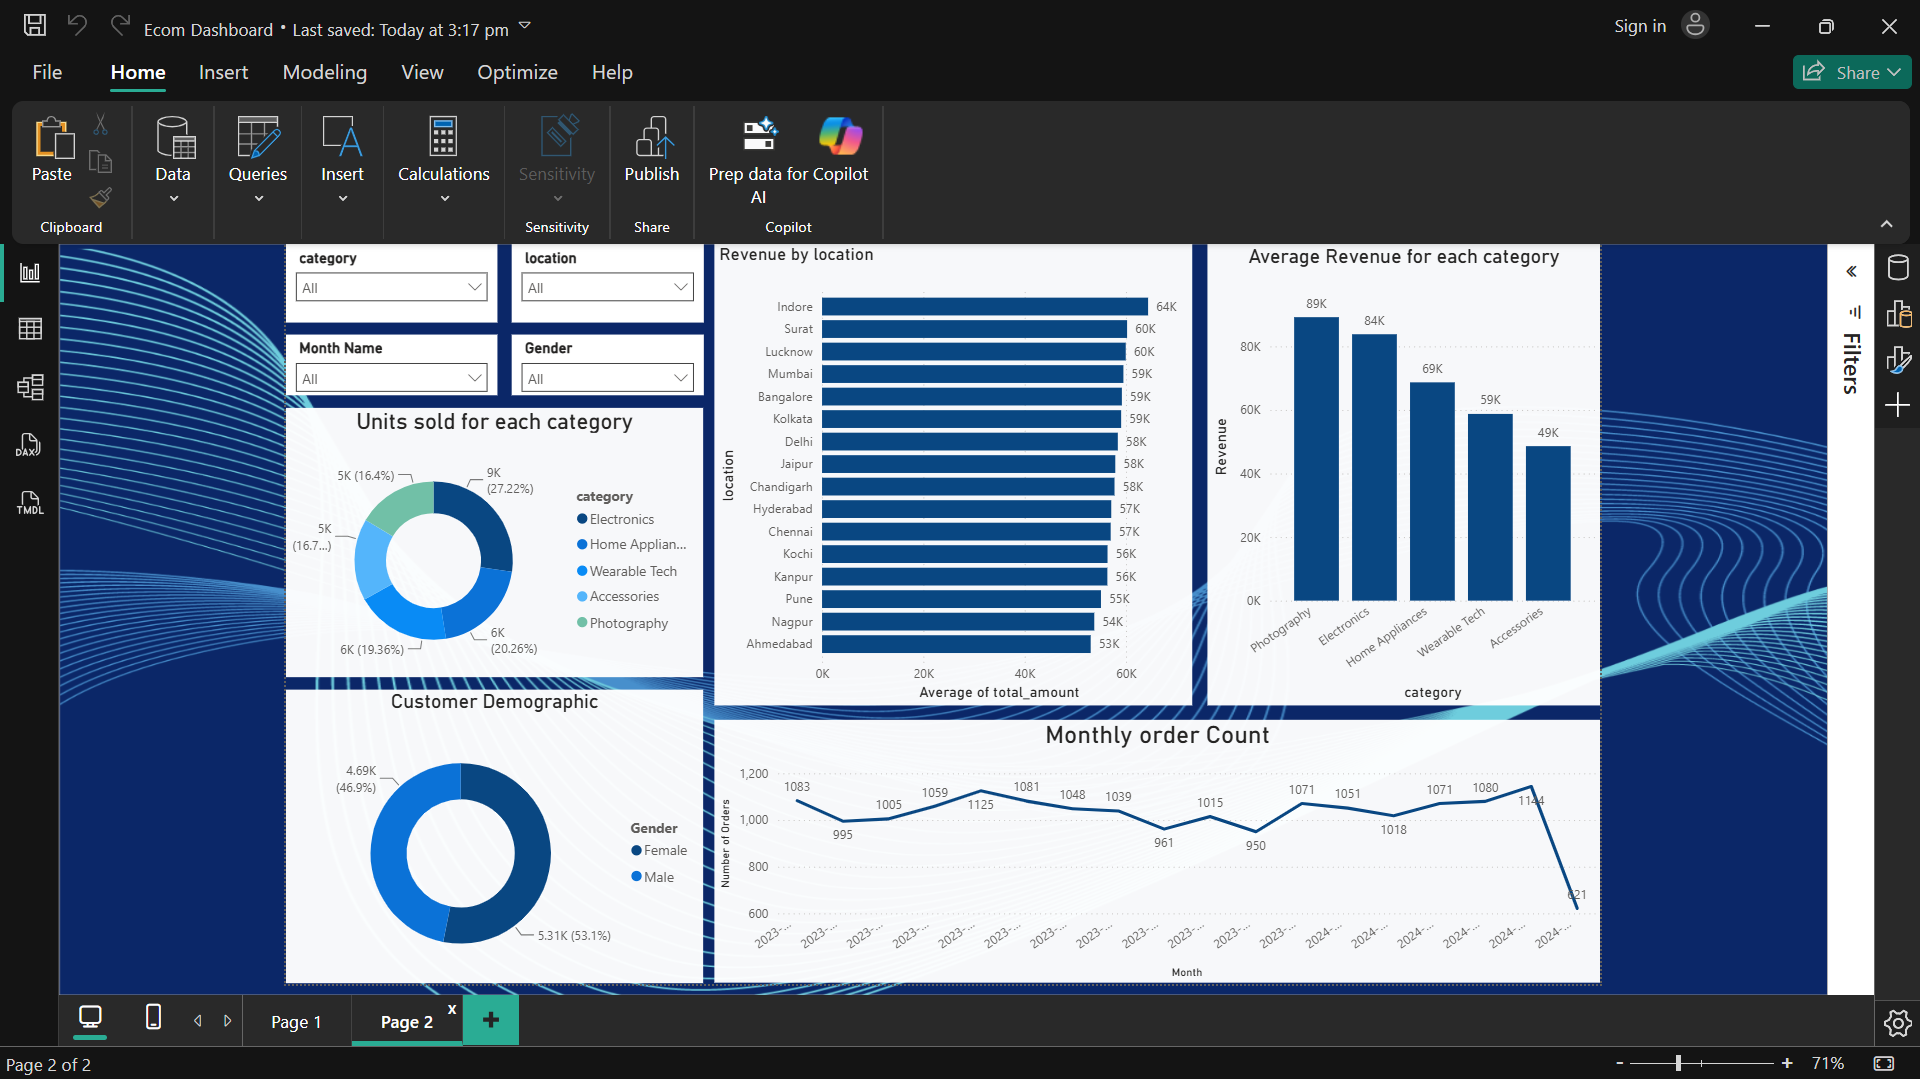

What the dashboard file says about the page in this screenshot:
{"tool":"powerbi","page":{"name":"Page 2","canvas":[1280,720],"ordinal":1},"visuals":[{"type":"slicer","fields":{"Values":["ecom_new_db vw_customers.location"]},"box":[219.5,0,187.1,76.6],"z":0},{"type":"slicer","fields":{"Values":["ecom_new_db vw_customers.Gender"]},"box":[219.5,88.4,187.1,58.9],"z":1000},{"type":"slicer","fields":{"Values":["CalendarTable.Month Name"]},"box":[0,88.4,206.2,58.9],"z":2000},{"type":"slicer","fields":{"Values":["ecom_new_db vw_products.category"]},"box":[0,0,206.2,76.6],"z":3000},{"type":"donutChart","title":"Units sold for each category","fields":{"Category":["ecom_new_db vw_products.category"],"Y":["Sum(ecom_new_db vw_orderdetails.quantity)"]},"box":[0,159.6,406.6,262.2],"z":4000},{"type":"donutChart","title":"Customer Demographic","fields":{"Category":["ecom_new_db vw_customers.Gender"],"Y":["CountNonNull(ecom_new_db vw_orders.customer_id)"]},"box":[0,434.6,406.6,285.8],"z":5000},{"type":"clusteredColumnChart","title":"Average   Revenue for each category","fields":{"Category":["ecom_new_db vw_products.category"],"Y":["Avg(ecom_new_db vw_orders.total_amount)"]},"box":[897.2,0,383,449.3],"z":6000},{"type":"clusteredBarChart","title":"Revenue by location","fields":{"Category":["ecom_new_db vw_customers.location"],"Y":["Avg(ecom_new_db vw_orders.total_amount)"]},"box":[416.9,0,465.5,449.3],"z":7000},{"type":"lineChart","title":"Monthly order Count","fields":{"Category":["CalendarTable.Year-Month"],"Y":["CountNonNull(ecom_new_db vw_orderdetails.order_id)"]},"box":[416.9,464.1,863.3,256.3],"z":7001}]}

Visuals, with their boxes on the page's 1280x720 design canvas (x1, y1, x2, y2). These are canvas units, not pixel positions in the 1920x1079 screenshot, which may show the page scaled, cropped or inside an application window:
slicer - ecom_new_db vw_customers.location: 220,0,407,77
slicer - ecom_new_db vw_customers.Gender: 220,88,407,147
slicer - CalendarTable.Month Name: 0,88,206,147
slicer - ecom_new_db vw_products.category: 0,0,206,77
"Units sold for each category" donutChart: 0,160,407,422
"Customer Demographic" donutChart: 0,435,407,720
"Average   Revenue for each category" clusteredColumnChart: 897,0,1280,449
"Revenue by location" clusteredBarChart: 417,0,882,449
"Monthly order Count" lineChart: 417,464,1280,720
